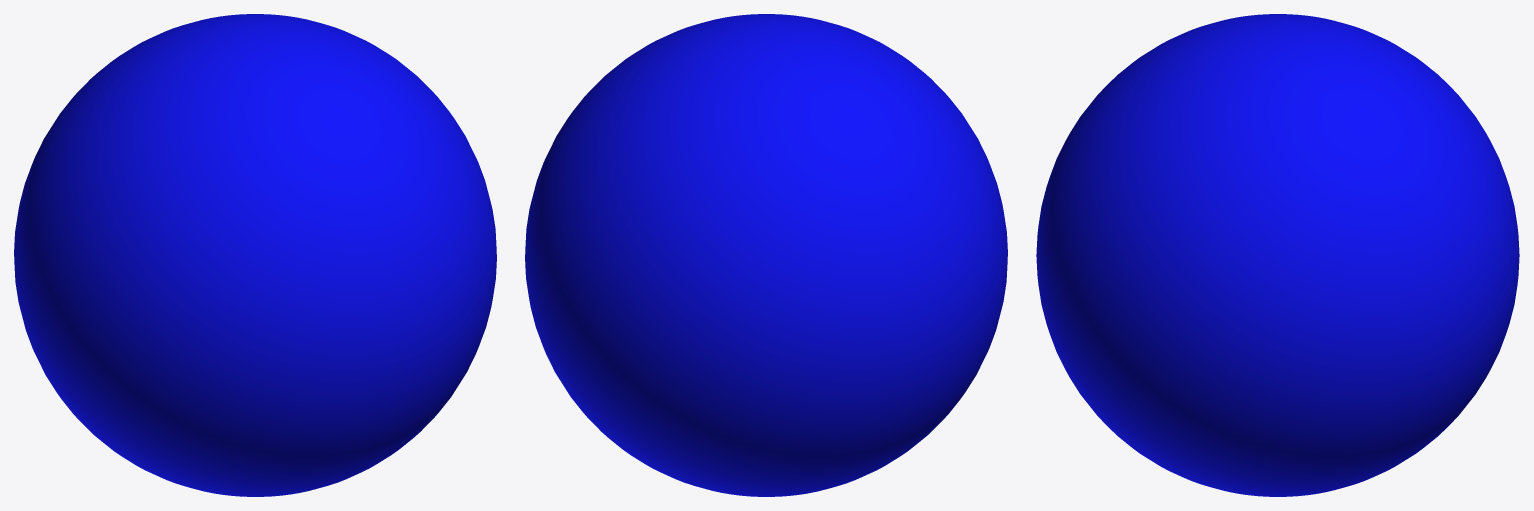
The picture shows the model from 3 angles, left to right: view 1: azimuth 30°, elevation 25°; view 2: azimuth 150°, elevation 25°; view 3: azimuth 270°, elevation 25°; orthographic projection.
Visible parts, largest first — view 1: 02562228-d968-4540-b4ba-352d265adc22; view 2: 02562228-d968-4540-b4ba-352d265adc22; view 3: 02562228-d968-4540-b4ba-352d265adc22.
Boxes of the visible parts, <box> form: 02562228-d968-4540-b4ba-352d265adc22: <box>14,14,496,496</box>; 02562228-d968-4540-b4ba-352d265adc22: <box>525,14,1007,496</box>; 02562228-d968-4540-b4ba-352d265adc22: <box>1036,14,1519,496</box>.
Size of the model in its own units: 4 by 4 by 4.
